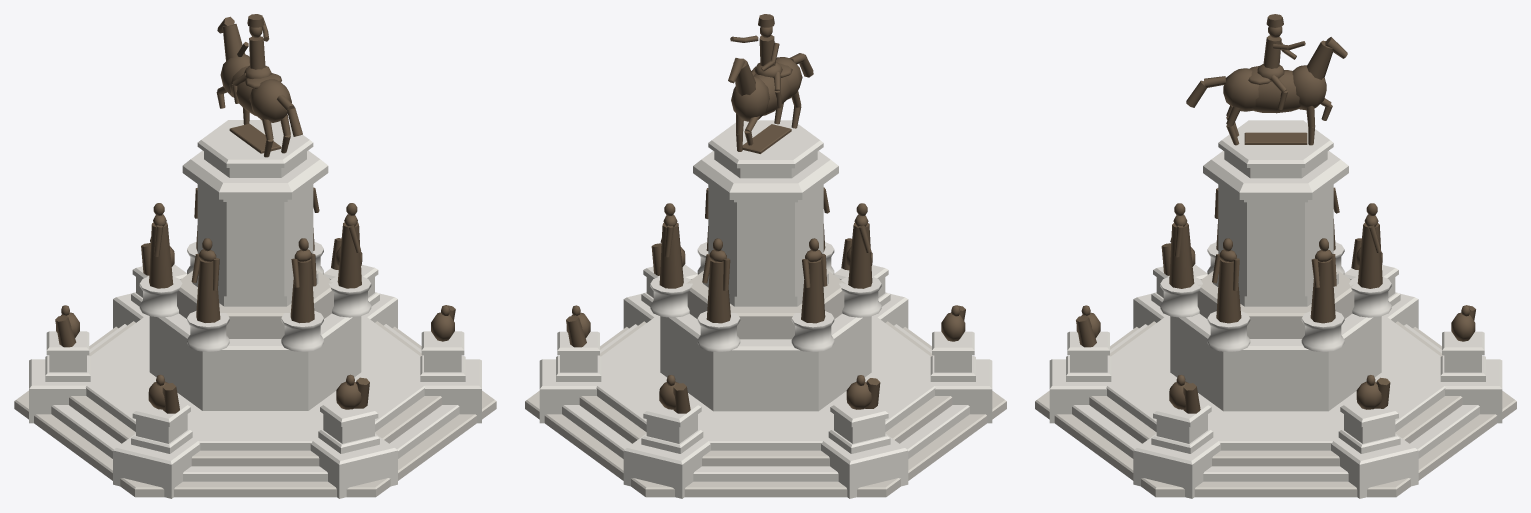
Rendered from ric-washington-monument.glb.
3 renders of one model, left to right at view 1: azimuth 30°, elevation 25°; view 2: azimuth 150°, elevation 25°; view 3: azimuth 270°, elevation 25°, orthographic.
Parts seen in each view (by area): view 1: Virginia Washington Monument; view 2: Virginia Washington Monument; view 3: Virginia Washington Monument.
Part boxes in pixels (x1=…): Virginia Washington Monument: x1=14, y1=14, x2=496, y2=498; Virginia Washington Monument: x1=525, y1=14, x2=1006, y2=498; Virginia Washington Monument: x1=1035, y1=14, x2=1516, y2=498.
Size of the model in its own units: 16.94 by 17.2 by 19.17.
